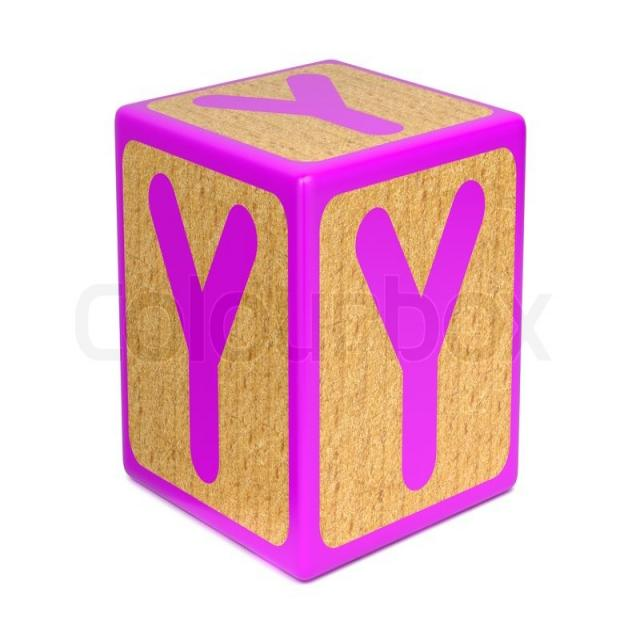Y: (133, 160, 279, 529)
